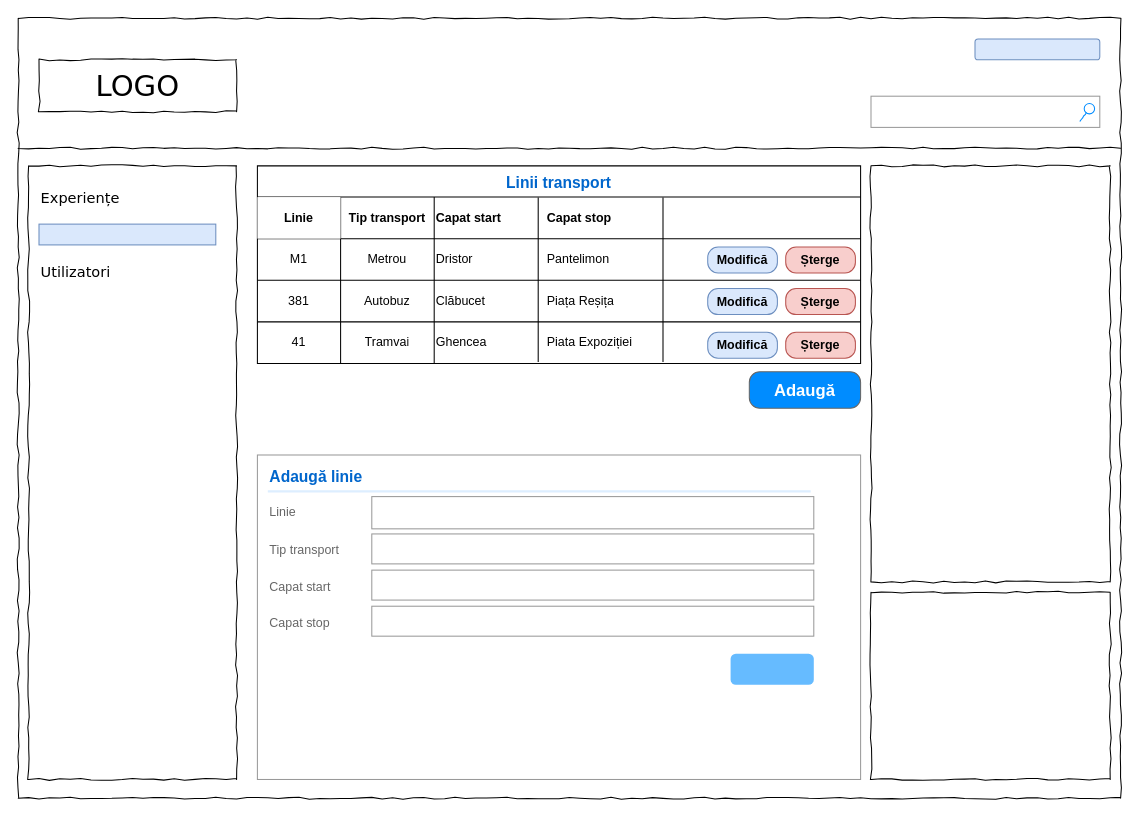
Image size: 1139x816. Some labels were removed from this diagram. Here are the shapes that lost their labels. From the top down, the box of each, then its label:
(974, 38, 1100, 60): Deconectare
(870, 95, 1100, 127): Search
(38, 223, 216, 245): Linii
(870, 165, 1110, 582): Informații
(730, 653, 813, 684): Salvează
(870, 591, 1110, 779): Link-uri externe
